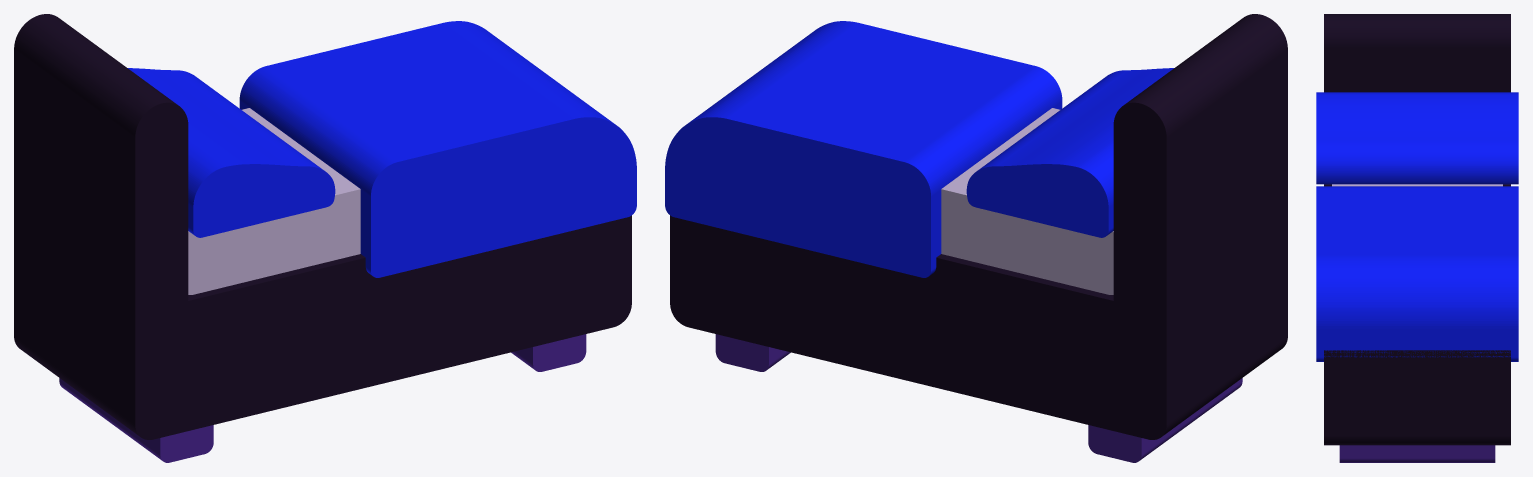
3 renders of one model, left to right at view 1: azimuth 30°, elevation 25°; view 2: azimuth 150°, elevation 25°; view 3: azimuth 270°, elevation 25°, orthographic. The views are drawn at different scales.
Parts seen in each view (by area): view 1: U+1F6CF_layer02_obj00, U+1F6CF_layer03_obj00, U+1F6CF_layer01_obj00, U+1F6CF_layer00_obj00; view 2: U+1F6CF_layer02_obj00, U+1F6CF_layer03_obj00, U+1F6CF_layer01_obj00, U+1F6CF_layer00_obj00; view 3: U+1F6CF_layer03_obj00, U+1F6CF_layer02_obj00, U+1F6CF_layer00_obj00, U+1F6CF_layer01_obj00.
Part boxes in pixels (bbox=[...]): U+1F6CF_layer02_obj00: bbox=[14, 14, 631, 439]; U+1F6CF_layer03_obj00: bbox=[128, 21, 636, 277]; U+1F6CF_layer01_obj00: bbox=[188, 108, 360, 294]; U+1F6CF_layer00_obj00: bbox=[59, 334, 586, 462]; U+1F6CF_layer02_obj00: bbox=[670, 14, 1287, 439]; U+1F6CF_layer03_obj00: bbox=[665, 21, 1173, 277]; U+1F6CF_layer01_obj00: bbox=[941, 108, 1113, 294]; U+1F6CF_layer00_obj00: bbox=[715, 334, 1242, 462]; U+1F6CF_layer03_obj00: bbox=[1316, 92, 1518, 361]; U+1F6CF_layer02_obj00: bbox=[1324, 14, 1510, 445]; U+1F6CF_layer00_obj00: bbox=[1339, 445, 1495, 462]; U+1F6CF_layer01_obj00: bbox=[1332, 184, 1502, 186].
Bounding box in the file's own units: 0.5678 × 0.4055 × 0.26.
